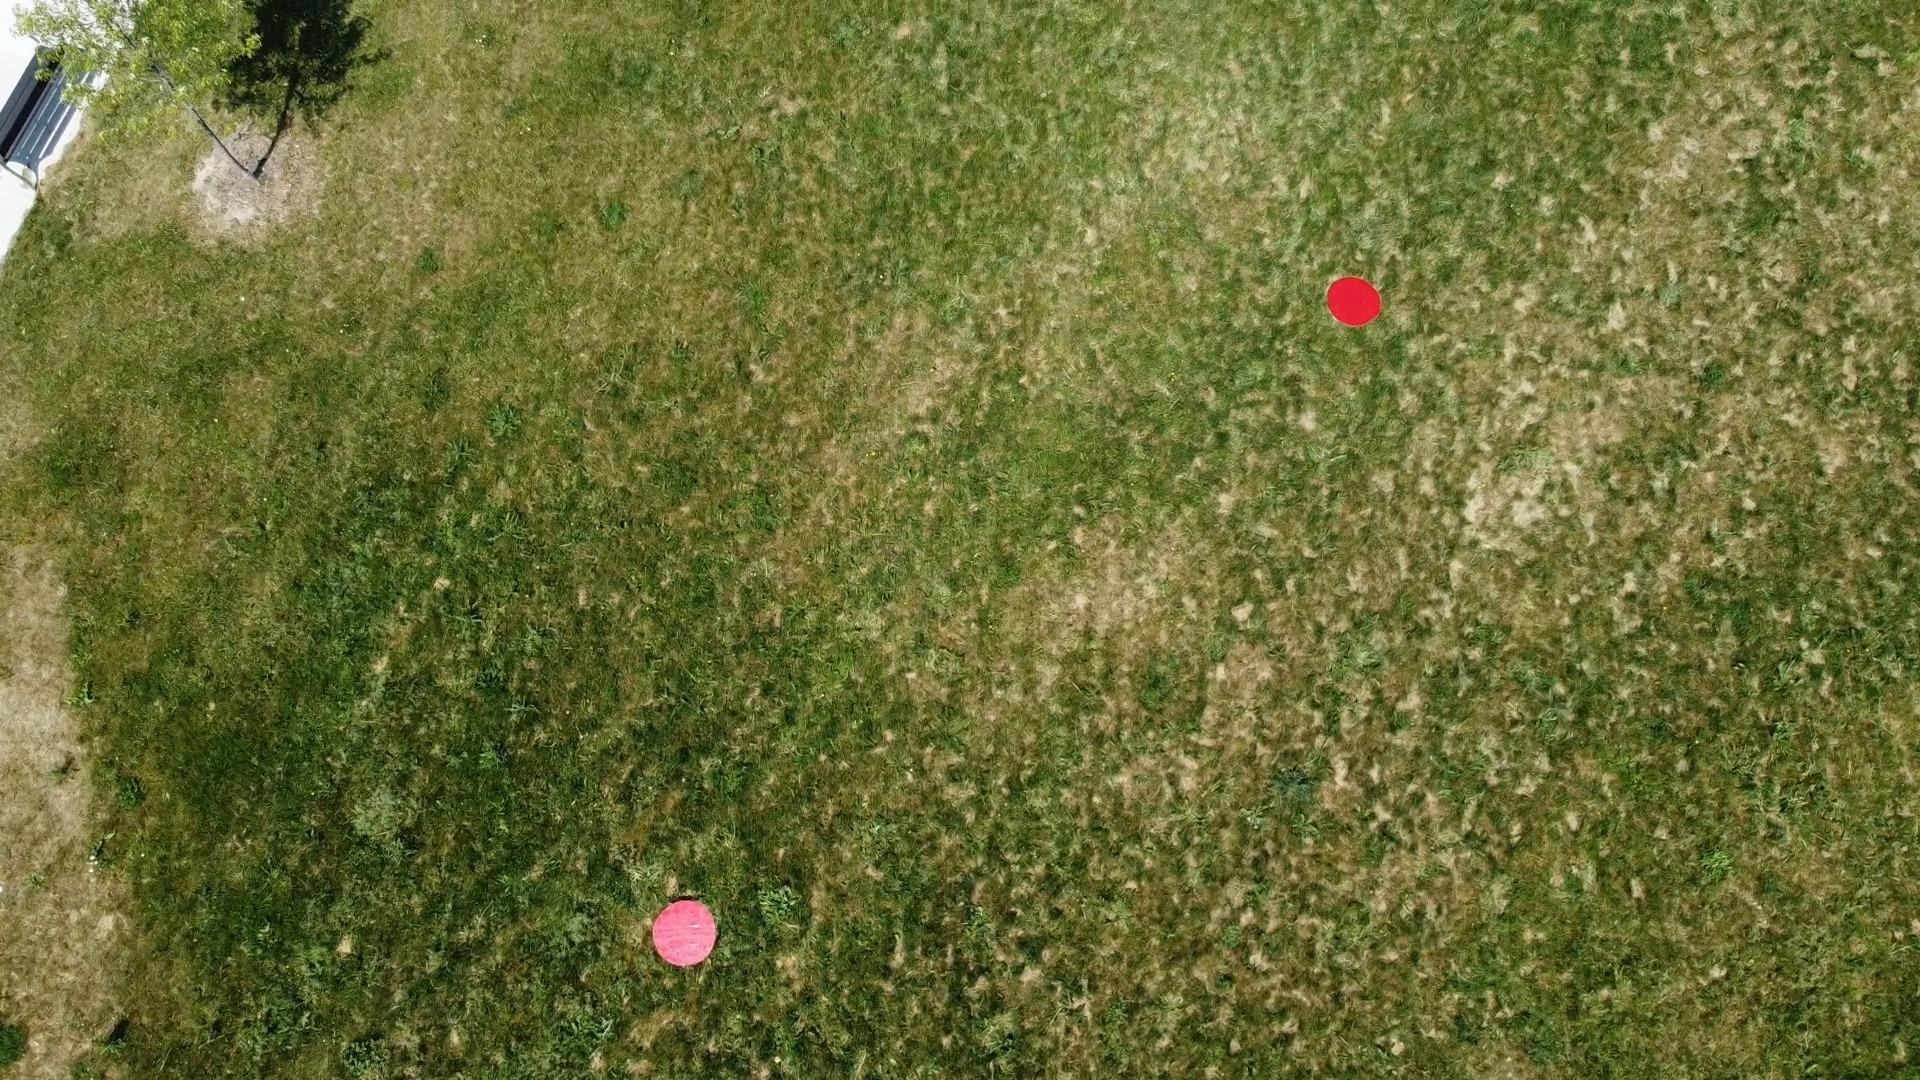Red: (650, 898, 720, 971), (1325, 274, 1383, 328)
